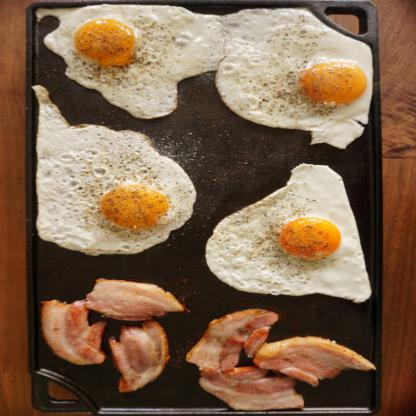egg: (33, 86, 197, 256), (207, 164, 371, 303), (217, 8, 373, 150), (35, 4, 226, 119)
